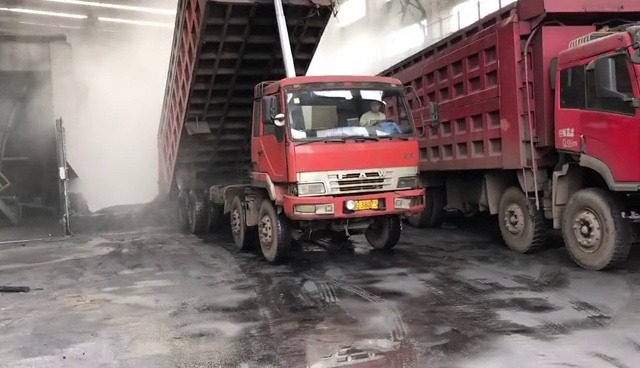dust: (40, 16, 163, 208), (308, 14, 423, 70)
truck: (164, 0, 417, 254), (418, 12, 638, 271)
